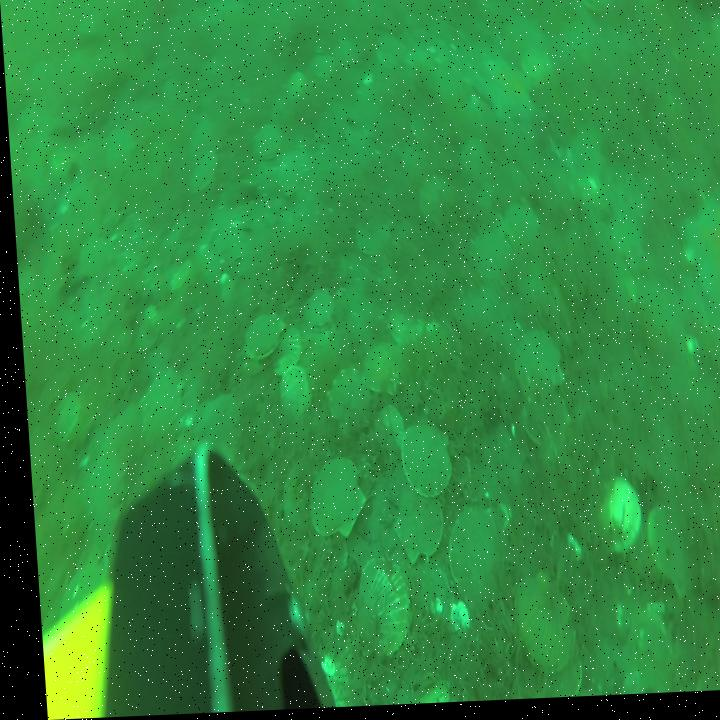scallop: (503, 573, 569, 683), (437, 509, 501, 622), (343, 555, 406, 664), (299, 456, 361, 543), (638, 504, 689, 605), (391, 423, 452, 507), (383, 490, 441, 573), (585, 480, 638, 564), (506, 332, 561, 402), (319, 368, 368, 444), (271, 457, 317, 536), (133, 367, 181, 440), (515, 389, 567, 454), (356, 342, 405, 403), (235, 312, 284, 367), (467, 225, 509, 289), (501, 205, 541, 265), (527, 656, 576, 703), (415, 171, 452, 233), (72, 236, 115, 289), (381, 302, 424, 351), (47, 390, 82, 450), (269, 364, 308, 417), (272, 148, 309, 203), (348, 220, 394, 263), (265, 326, 300, 382), (296, 286, 335, 336), (315, 100, 351, 151), (184, 149, 220, 199), (455, 138, 488, 185), (371, 406, 402, 456), (374, 33, 406, 78), (249, 123, 281, 165), (523, 50, 555, 92), (309, 49, 334, 87), (281, 71, 308, 106), (578, 0, 617, 24)
starfish: (676, 194, 720, 324), (473, 54, 534, 133)
